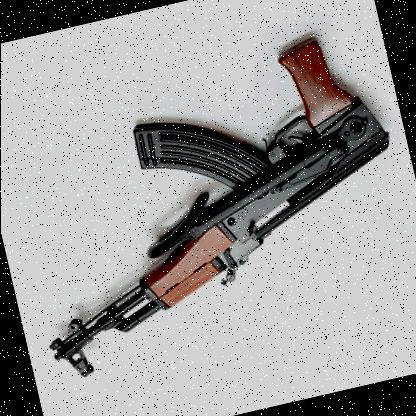rifle: (0, 9, 416, 389)
